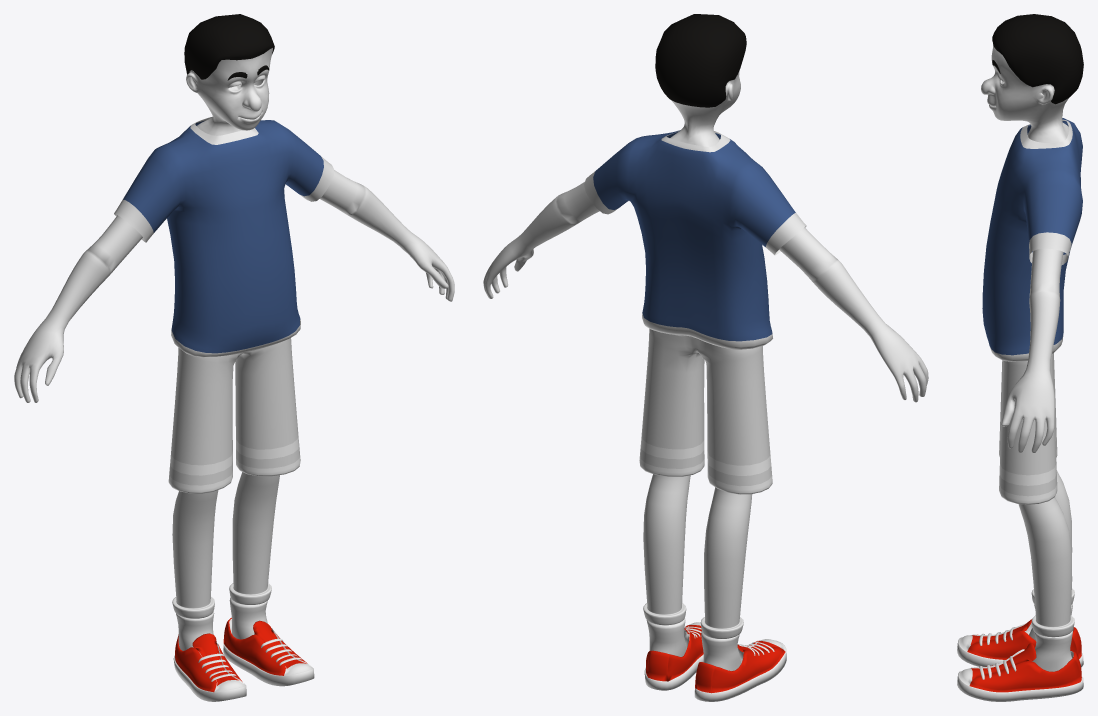
The model's file is character.fbx.
3 views of the same model, side by side, from view 1: azimuth 30°, elevation 25°; view 2: azimuth 150°, elevation 25°; view 3: azimuth 270°, elevation 25° (orthographic).
Parts seen in each view (by area): view 1: Junak_glava; view 2: Junak_glava; view 3: Junak_glava.
Part boxes in pixels (x1,y1,x2,y2): Junak_glava: (14, 14, 454, 701); Junak_glava: (483, 14, 928, 701); Junak_glava: (957, 14, 1083, 701).
Bounding box in the file's own units: 2 × 2.9 × 0.5066.
